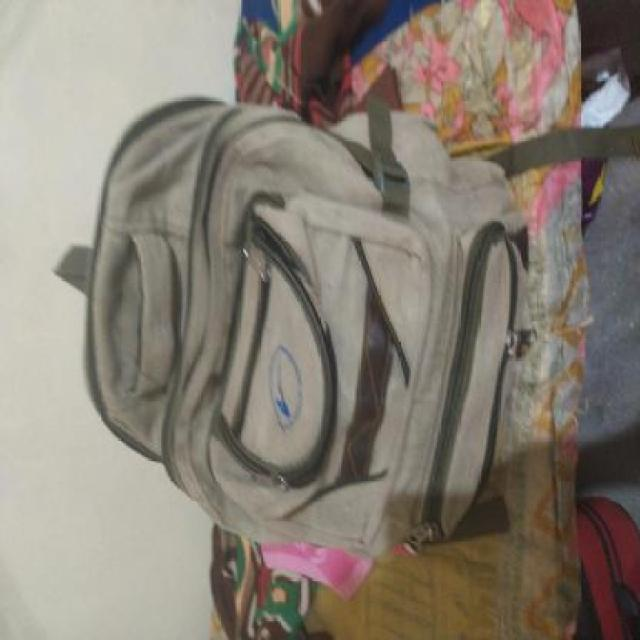backpack: (49, 85, 542, 569)
